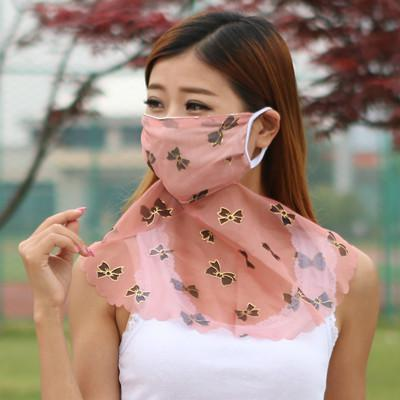OK: (142, 82, 265, 201)
